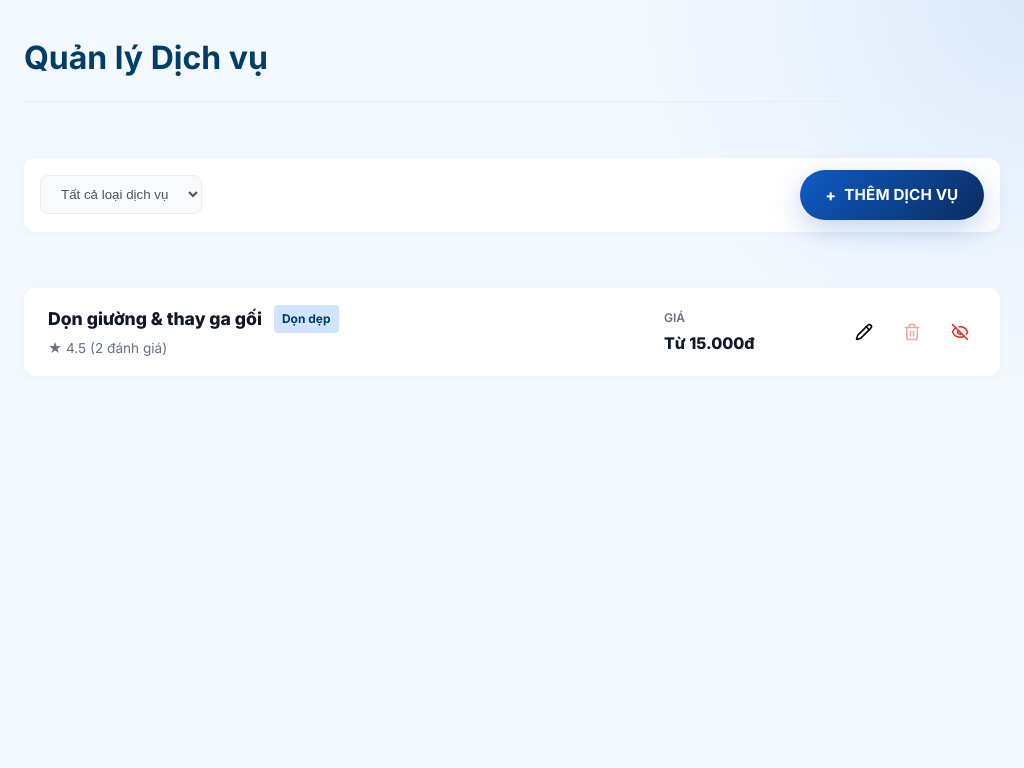
Test case: ServiceManagement › sửa dịch vụ usesVariants hiện đúng description đã lưu
Expected: the text "Dọn giường & thay ga gối" is shown, [48,304,262,333]
Click the button titled "Sửa" at [864, 332], box [848,316,880,348]
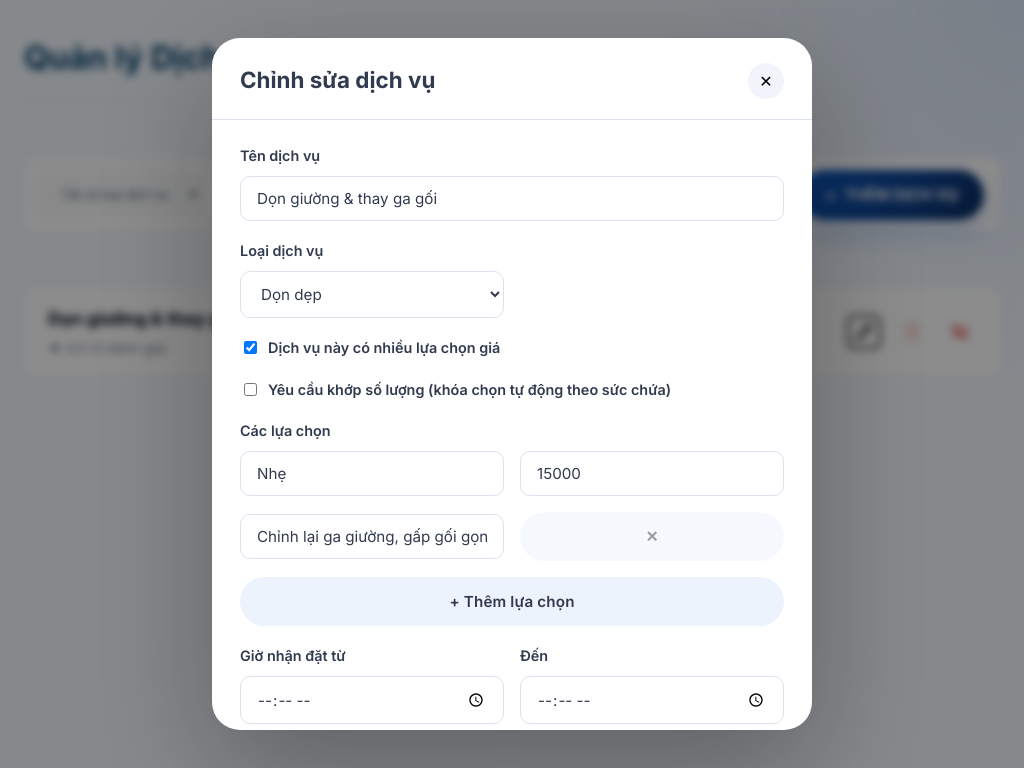
Expected: the 2nd field showing "Chỉnh lại ga giường, gấp gối gọn gàng" is shown, [240,514,504,559]
